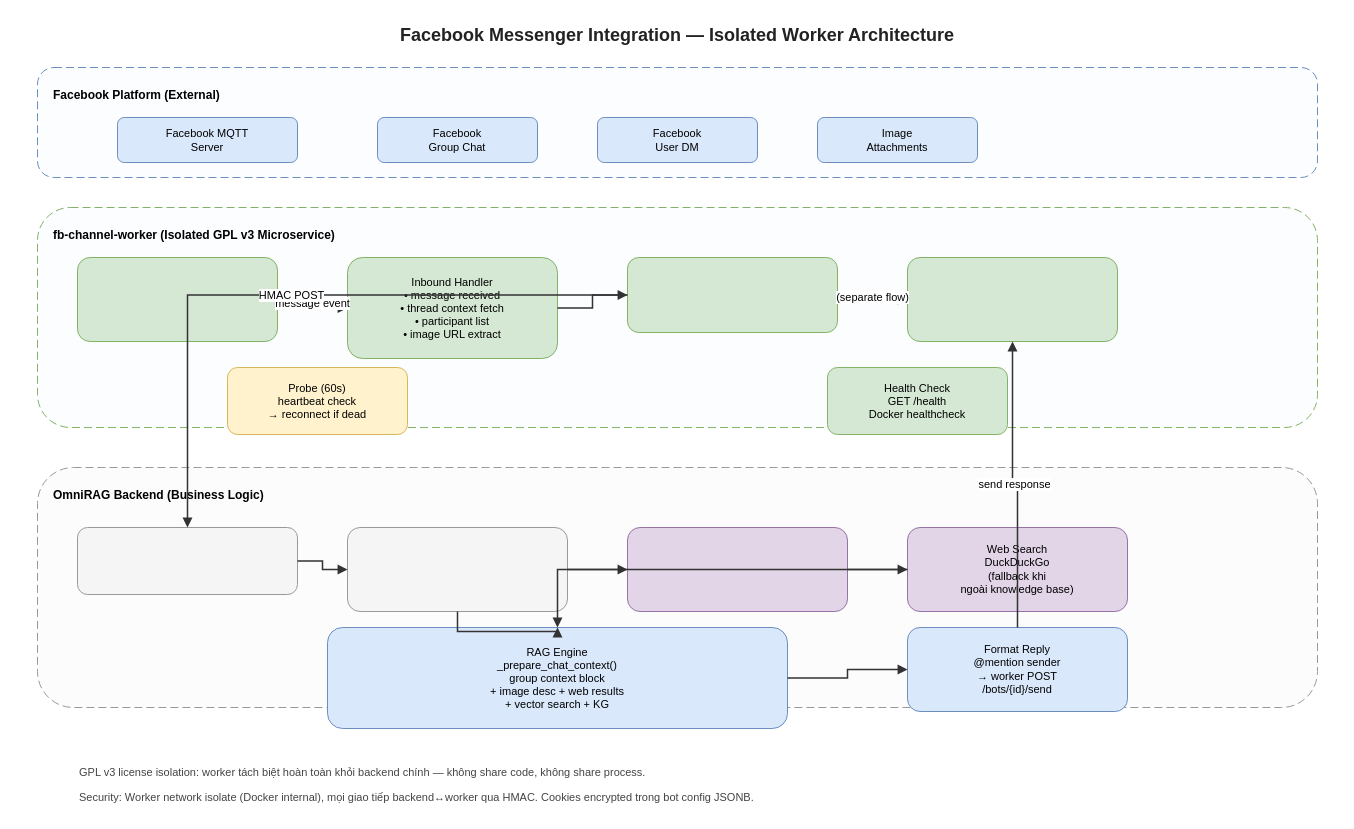
Image size: 1354x829. Some labels were removed from this diagram. The centre of each missing label's shape, as x and y in pixels:
"HMAC Verify POST /channels/facebook/ inbound/{bot_id}" belongs at [187,560].
"HMAC-SHA256 Sign FB_INBOUND_SECRET → HTTP POST to backend" belongs at [732,294].
"Image Description Vision LLM (gpt-4o-mini) → text description → RAG context" belongs at [737,569].
"MQTT Session (fbchat-muqit) cookies: c_user, xs, fr, datr, sb" belongs at [177,299].
"Outbound API POST /bots/{id}/send POST /bots/{id}/react POST /bots/{id}/leave" belongs at [1012,299].
"Thread Context • group participants • recent 10 messages (cache 2 min)" belongs at [457,569].
